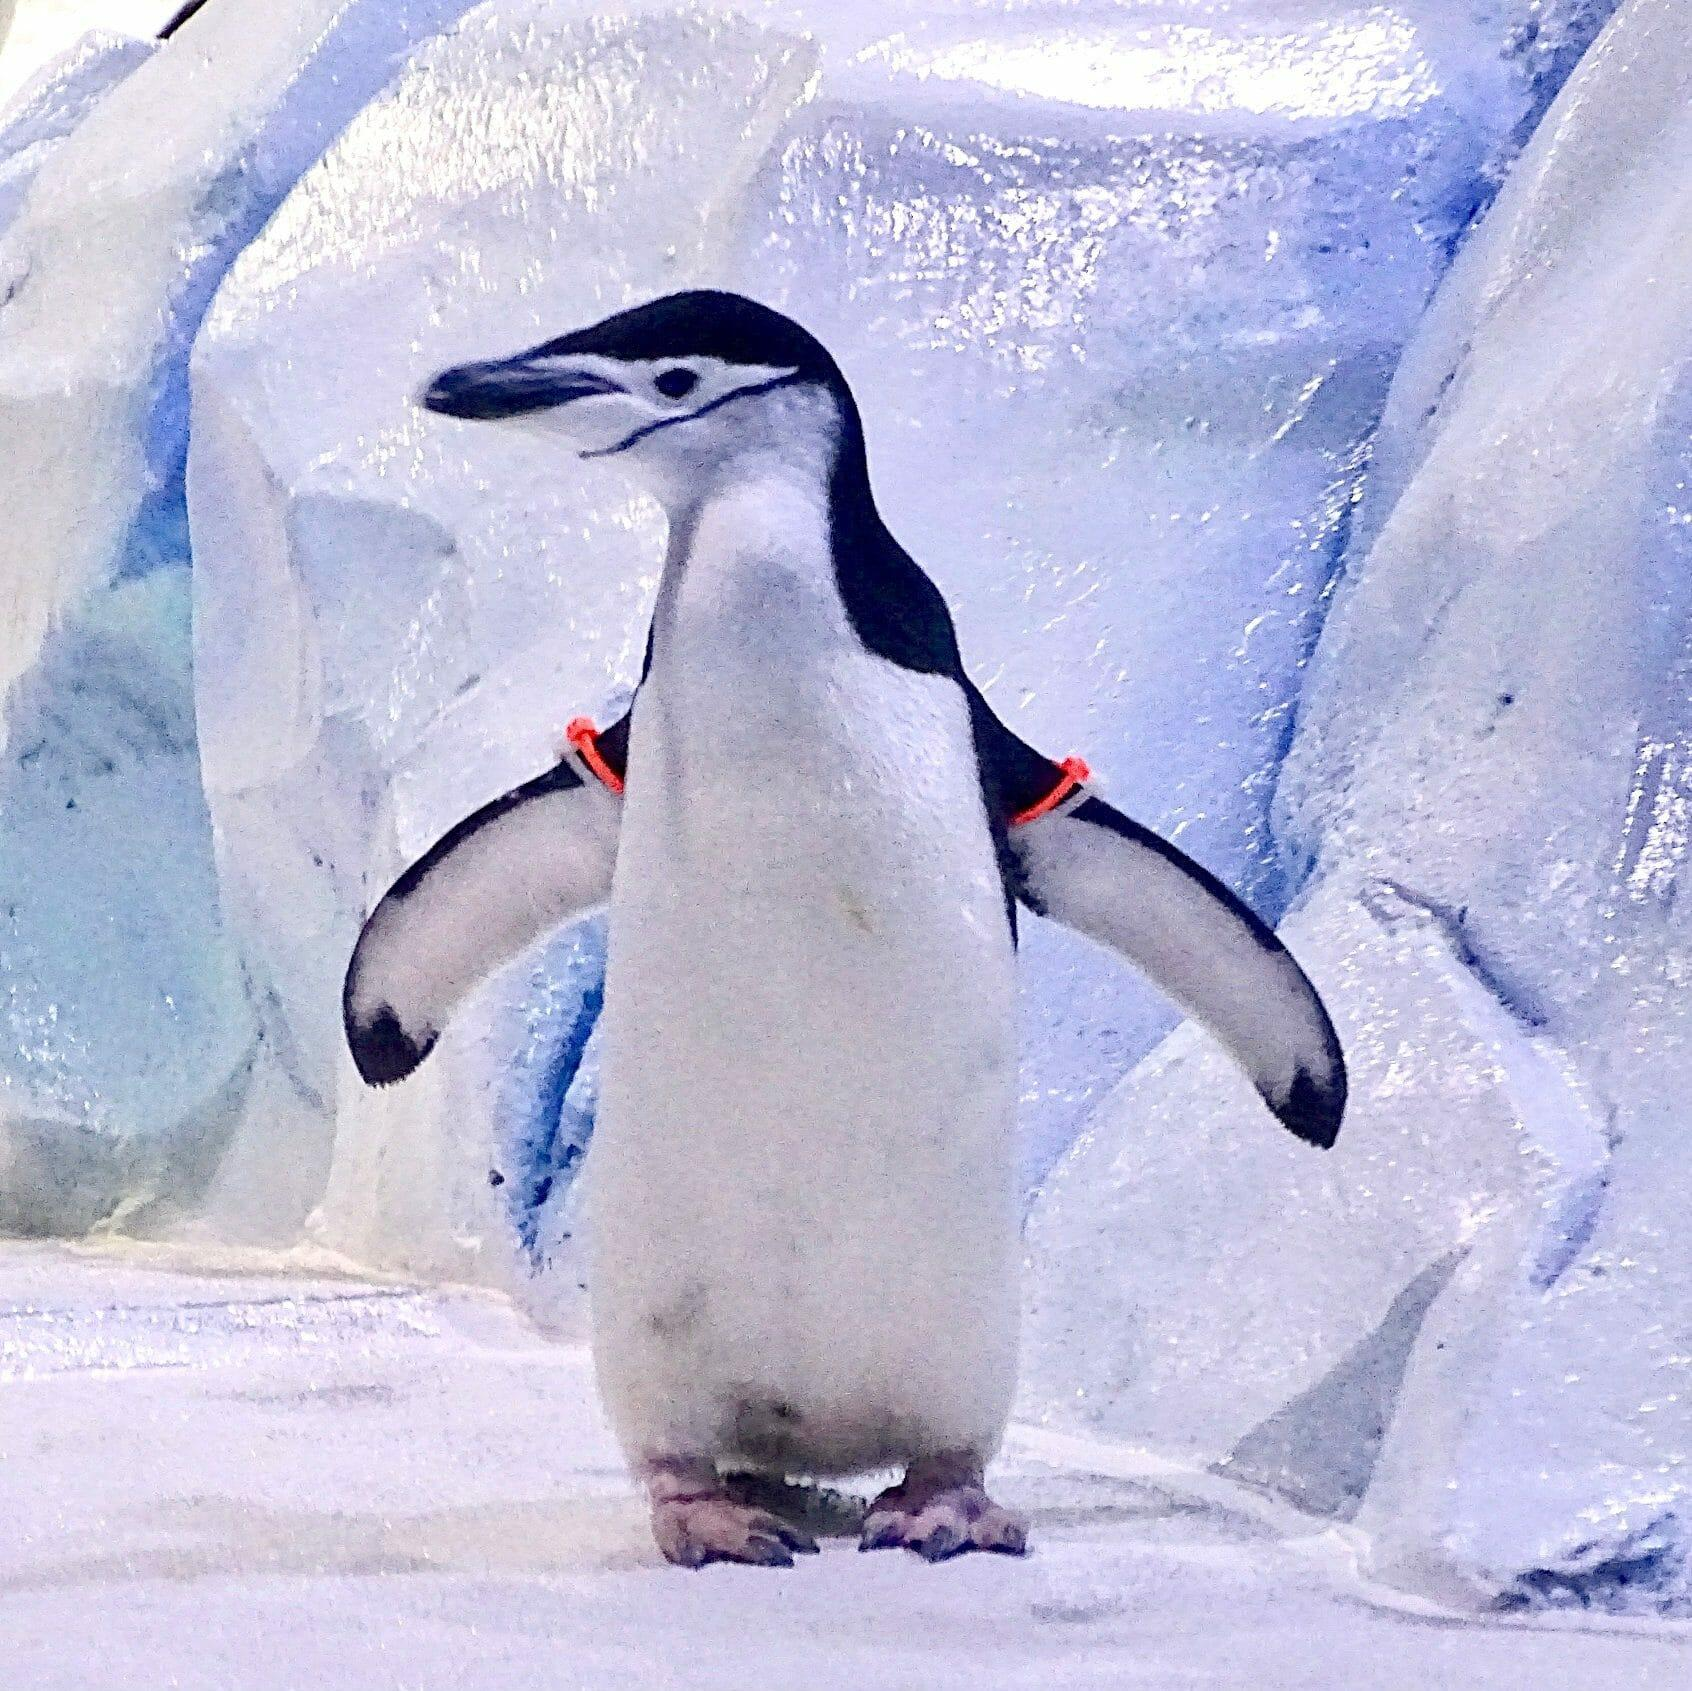chinstrap: (303, 293, 1356, 1618)
